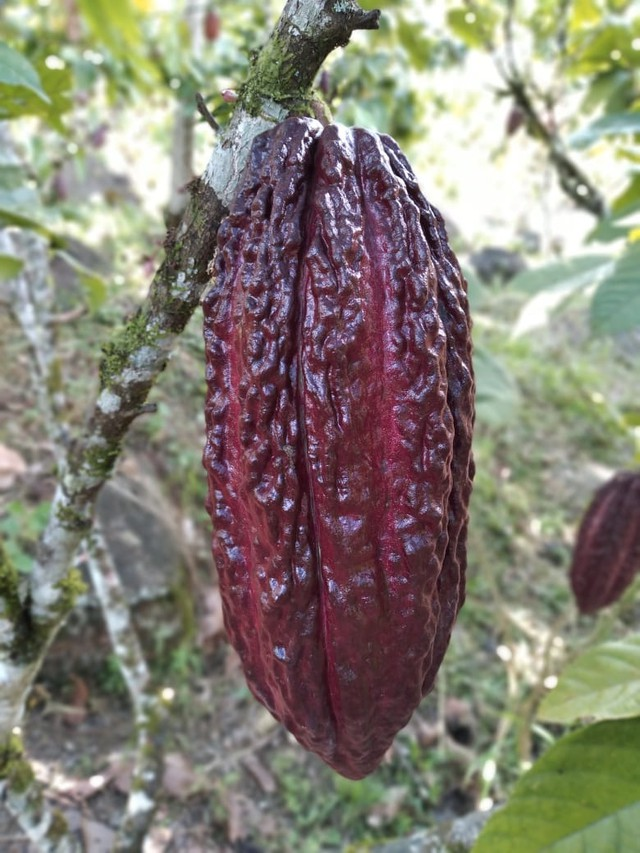Health: (191, 112, 491, 789)
